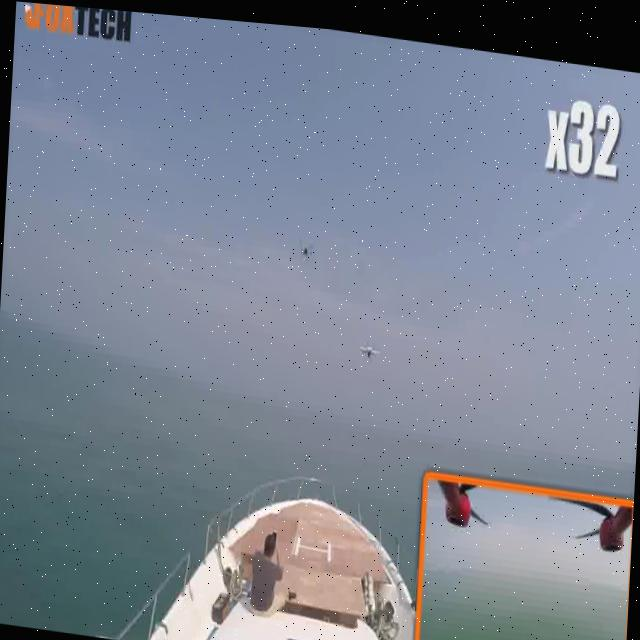drone: (290, 229, 324, 269), (353, 323, 382, 364)
